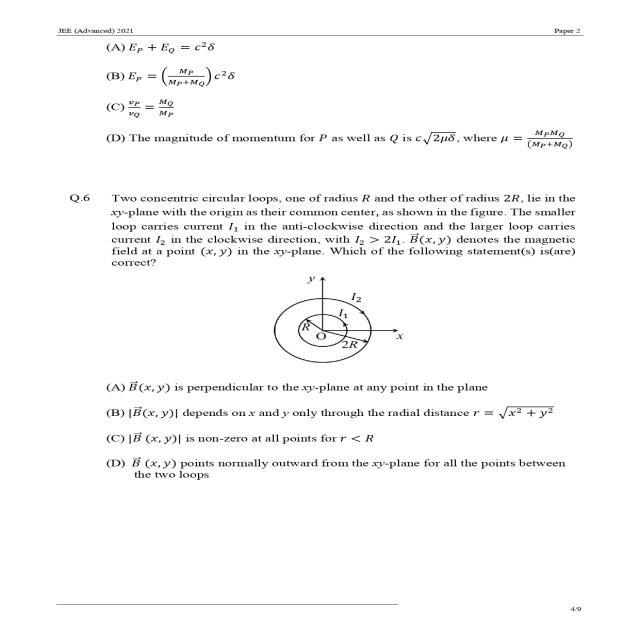Answer_Block: (45, 377, 608, 574)
Description: (45, 37, 608, 175)
Question_Answer_Block: (45, 187, 608, 574)
Question_Block: (45, 188, 608, 378)
Question_Paper_Area: (45, 37, 608, 574)
